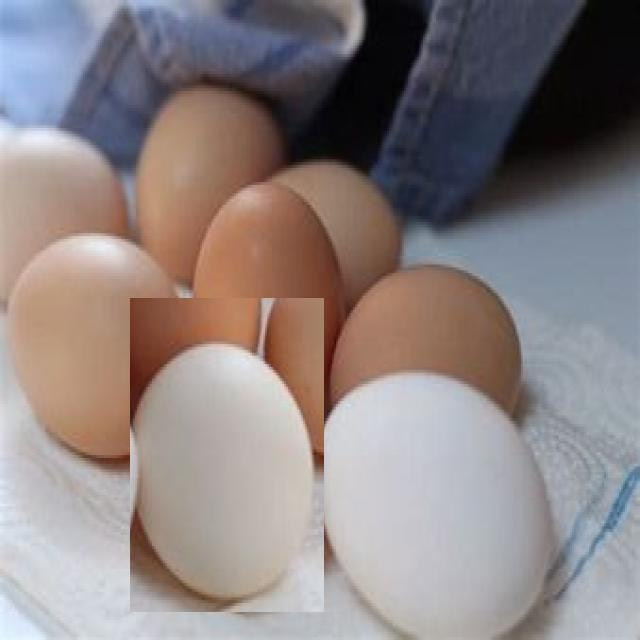Egg: (297, 363, 555, 640), (130, 298, 324, 612)
